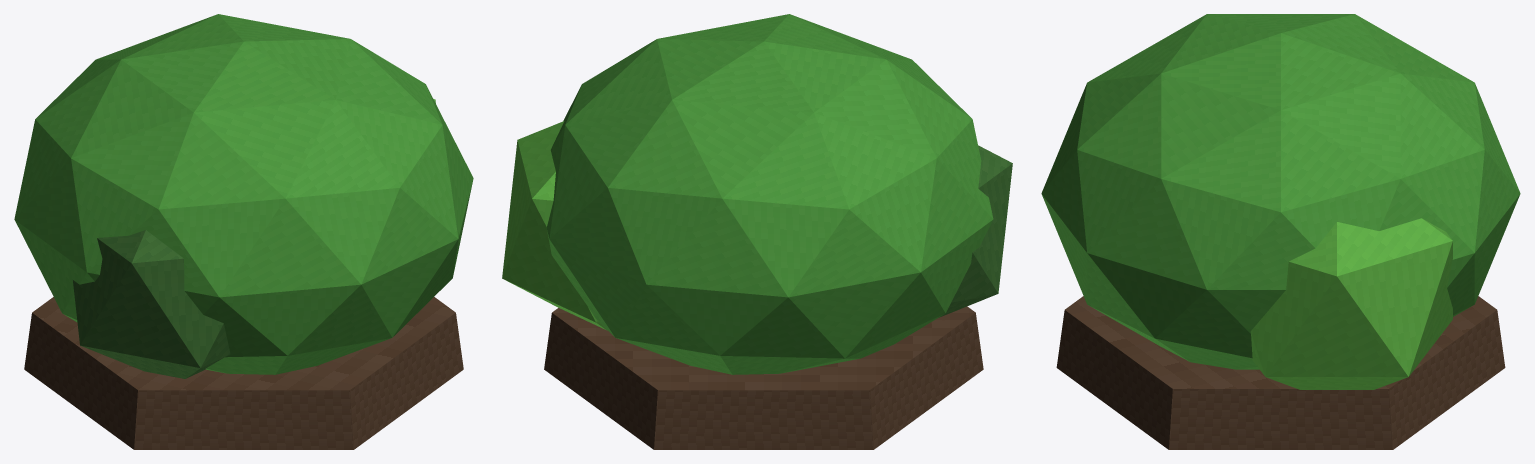
The model's file is shrub-lod0.glb.
The picture shows the model from 3 angles, left to right: view 1: azimuth 30°, elevation 25°; view 2: azimuth 150°, elevation 25°; view 3: azimuth 270°, elevation 25°; orthographic projection. The views are drawn at different scales.
Parts seen in each view (by area): view 1: shrub-lod0; view 2: shrub-lod0; view 3: shrub-lod0.
Boxes of the visible parts, x1,y1,x2,y2 form: shrub-lod0: (14,14,473,449); shrub-lod0: (502,14,1012,449); shrub-lod0: (1041,14,1520,449).
Size of the model in its own units: 1.23 by 0.922 by 1.2.
Materials: 1 (1 with a texture image).
